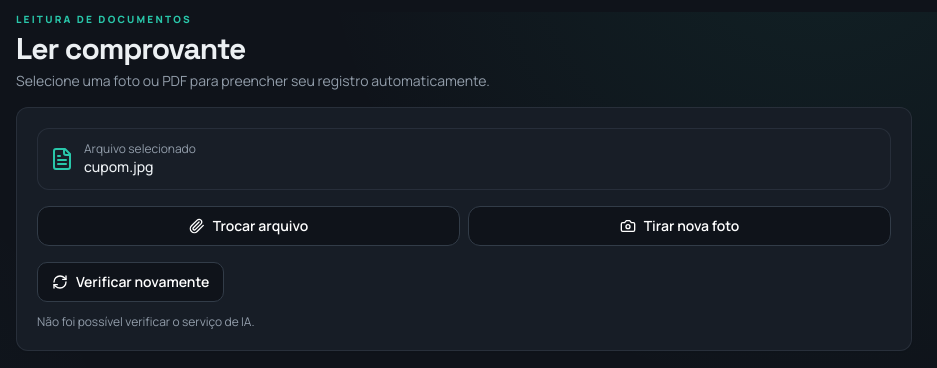
Test: ReceiptImport free external AI reader (test) › keeps a retry path visible when the status check fails, without claiming readiness
This screenshot has width=937, height=368.
Earlier steps of the test are not shown.
Expected: the text "Não foi possível verificar o serviço de IA." is shown, [37,313,254,330]
Expected: the button "Ler Comprovante com IA" is not shown
Click the button "Verificar novamente".
click(131, 282)  # box [37,262,224,302]
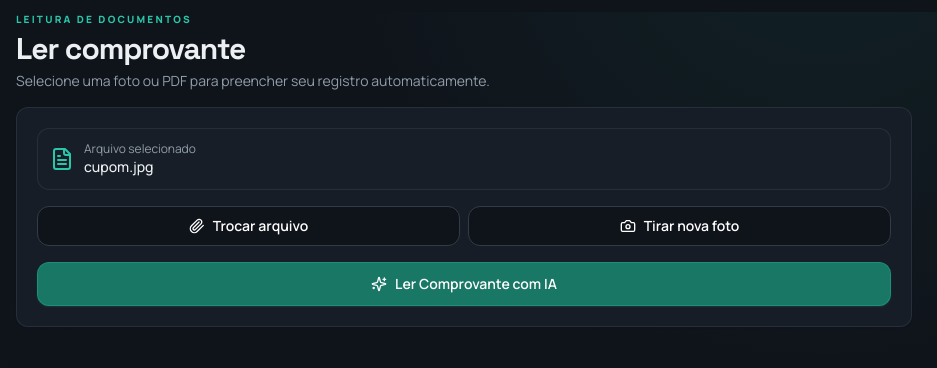
Expected: the button "Ler Comprovante com IA" is enabled, [37,262,891,306]
Expected: the text "Não foi possível verificar o serviço de IA." is gone
